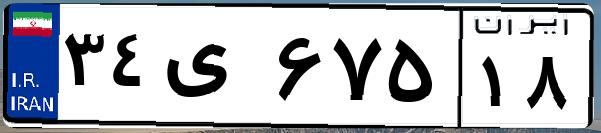1: (475, 38, 525, 113)
3: (57, 26, 110, 100)
4: (110, 28, 158, 98)
5: (385, 28, 445, 110)
6: (270, 28, 330, 110)
7: (330, 28, 385, 110)
8: (525, 38, 570, 115)
ی: (158, 20, 270, 120)
